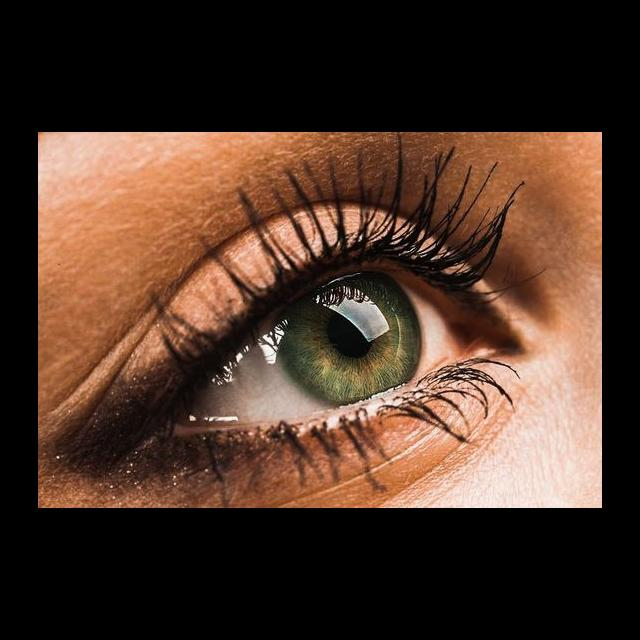eye: (190, 265, 467, 427)
iris: (272, 270, 425, 406)
